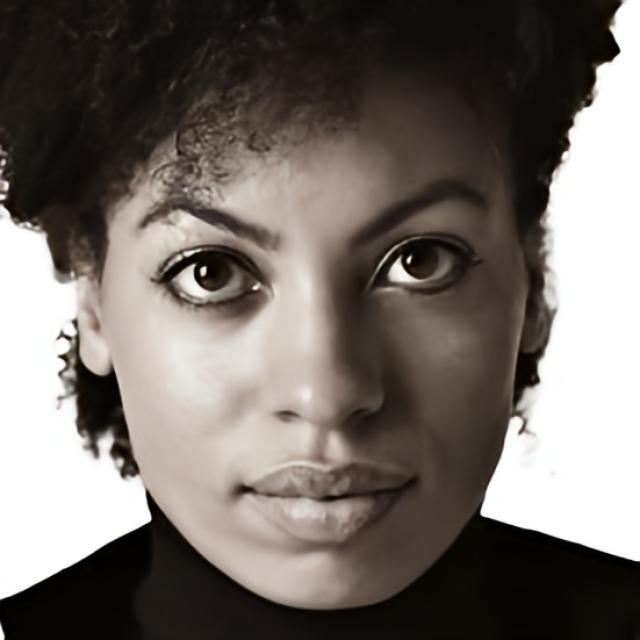neutral: (112, 68, 522, 612)
